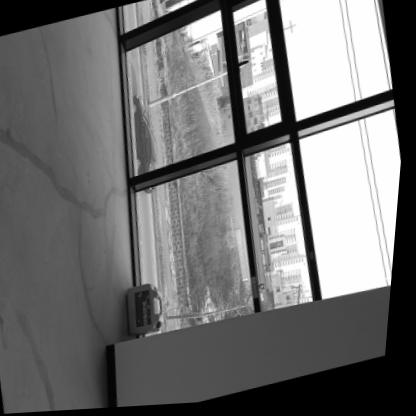DDL: (125, 284, 172, 342)
